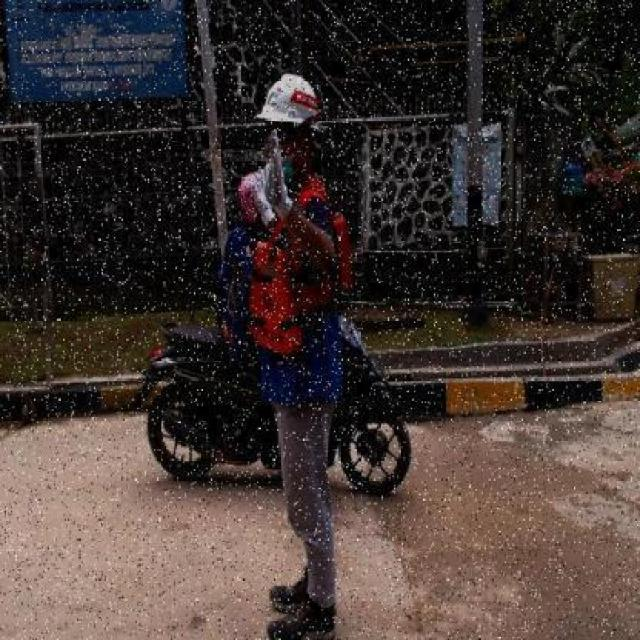Boots: (266, 597, 339, 640), (271, 570, 311, 612)
Gloves: (258, 129, 296, 222), (252, 158, 276, 228)
Helmet: (257, 62, 331, 133)
Mask: (279, 154, 298, 183)
Protective Glasses: (264, 128, 301, 144)
Vest: (248, 206, 352, 354)
